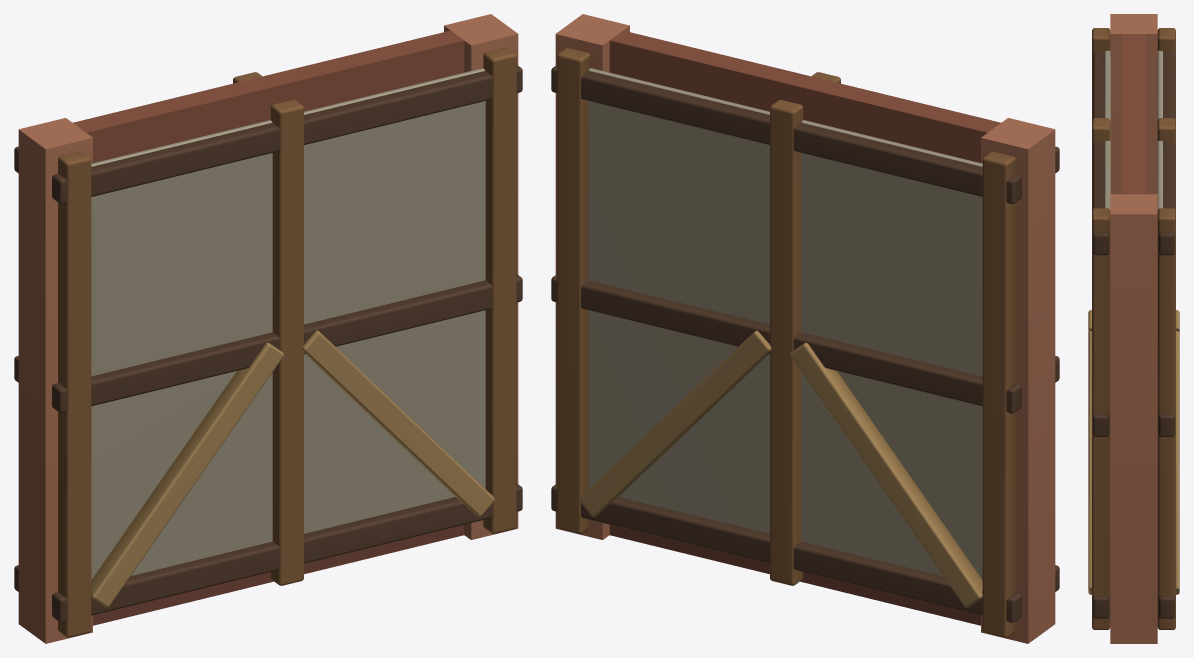
Rendered from fw_wall_timber_straight.glb.
3 renders of one model, left to right at view 1: azimuth 30°, elevation 25°; view 2: azimuth 150°, elevation 25°; view 3: azimuth 270°, elevation 25°, orthographic. The views are drawn at different scales.
Visible parts, largest first — view 1: body; view 2: body; view 3: body.
Boxes of the visible parts, bbox=[...] form: body: bbox=[14, 14, 522, 643]; body: bbox=[551, 14, 1059, 643]; body: bbox=[1088, 14, 1179, 643].
Bounding box in the file's own units: 2.6 × 2.6 × 0.5.
